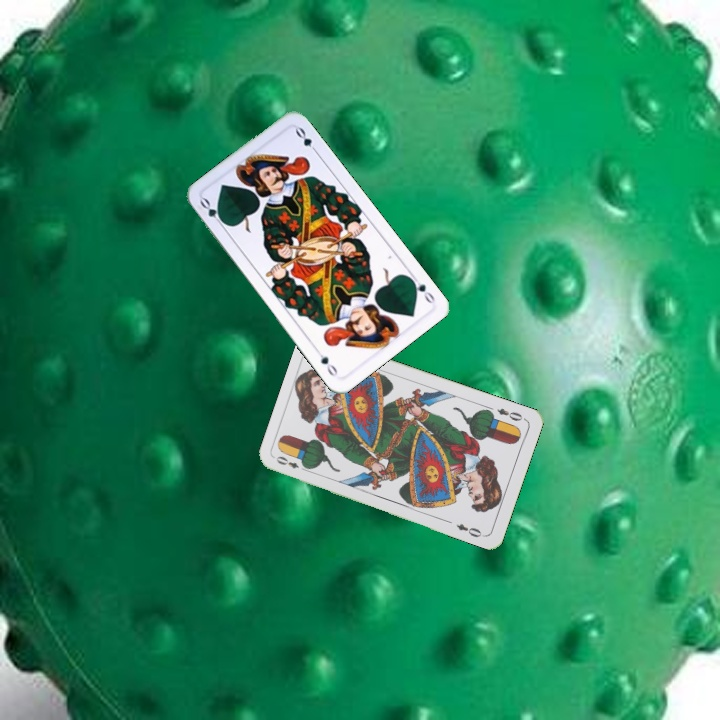EO: (272, 452, 311, 474), (493, 404, 525, 424)
GO: (196, 194, 229, 230), (406, 271, 438, 306)
